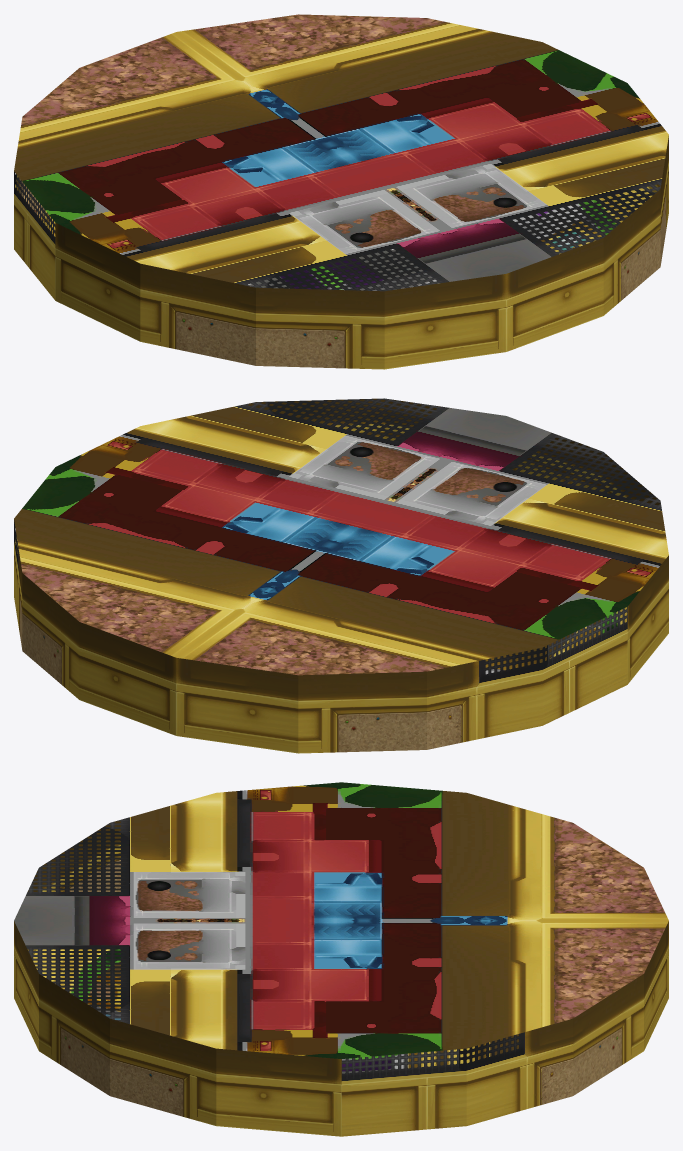
Rendered from lampara.obj.
3 renders of one model, top to bottom at view 1: azimuth 30°, elevation 25°; view 2: azimuth 150°, elevation 25°; view 3: azimuth 270°, elevation 25°, orthographic.
Parts seen in each view (by area): view 1: s4studio_mesh_0; view 2: s4studio_mesh_0; view 3: s4studio_mesh_0.
Part boxes in pixels (x1,y1,x2,y2): s4studio_mesh_0: [14, 14, 668, 369]; s4studio_mesh_0: [14, 398, 668, 753]; s4studio_mesh_0: [14, 782, 668, 1136].
Size of the model in its own units: 0.4783 by 0.1101 by 0.4783.
